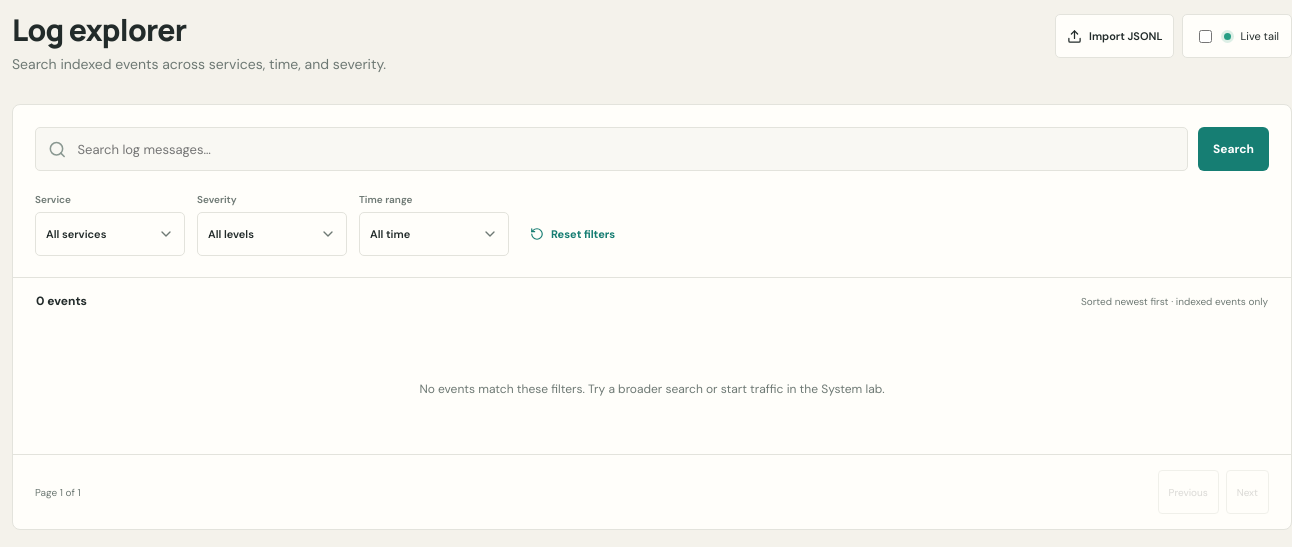
Test: frontend views › sends selected log filters to the API
Click the button named "Severity": (272, 234) top-left (197, 212), bottom-right (347, 256)
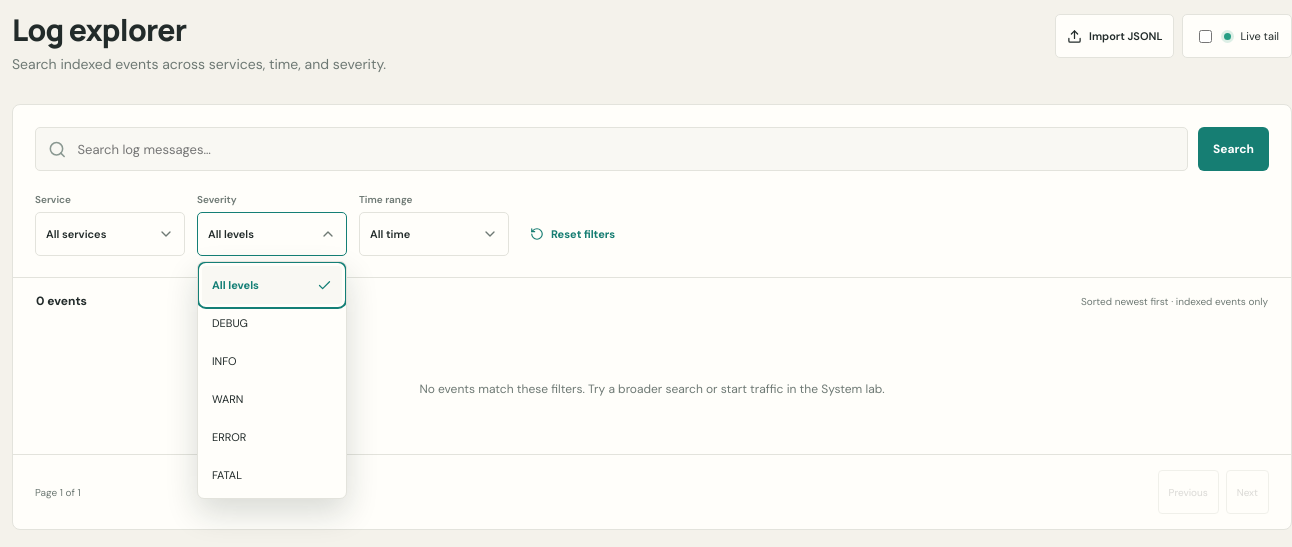
Click the menu item "ERROR": (272, 437) top-left (202, 418), bottom-right (342, 456)
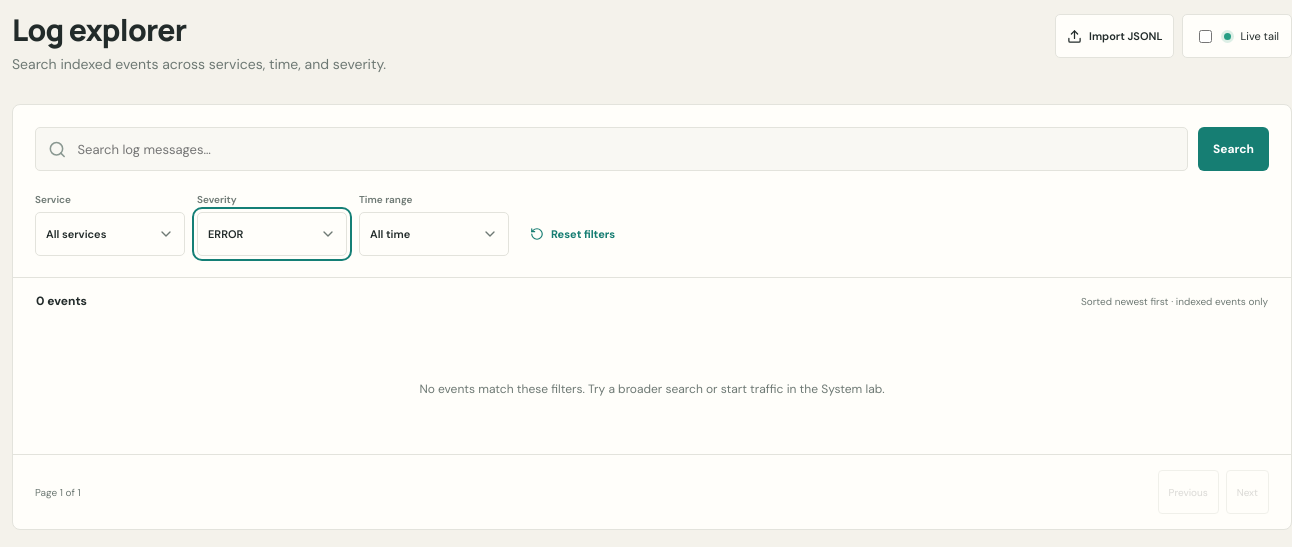
Check: the button named "Severity" reads "ERROR", box top-left (197, 212), bottom-right (347, 256)
